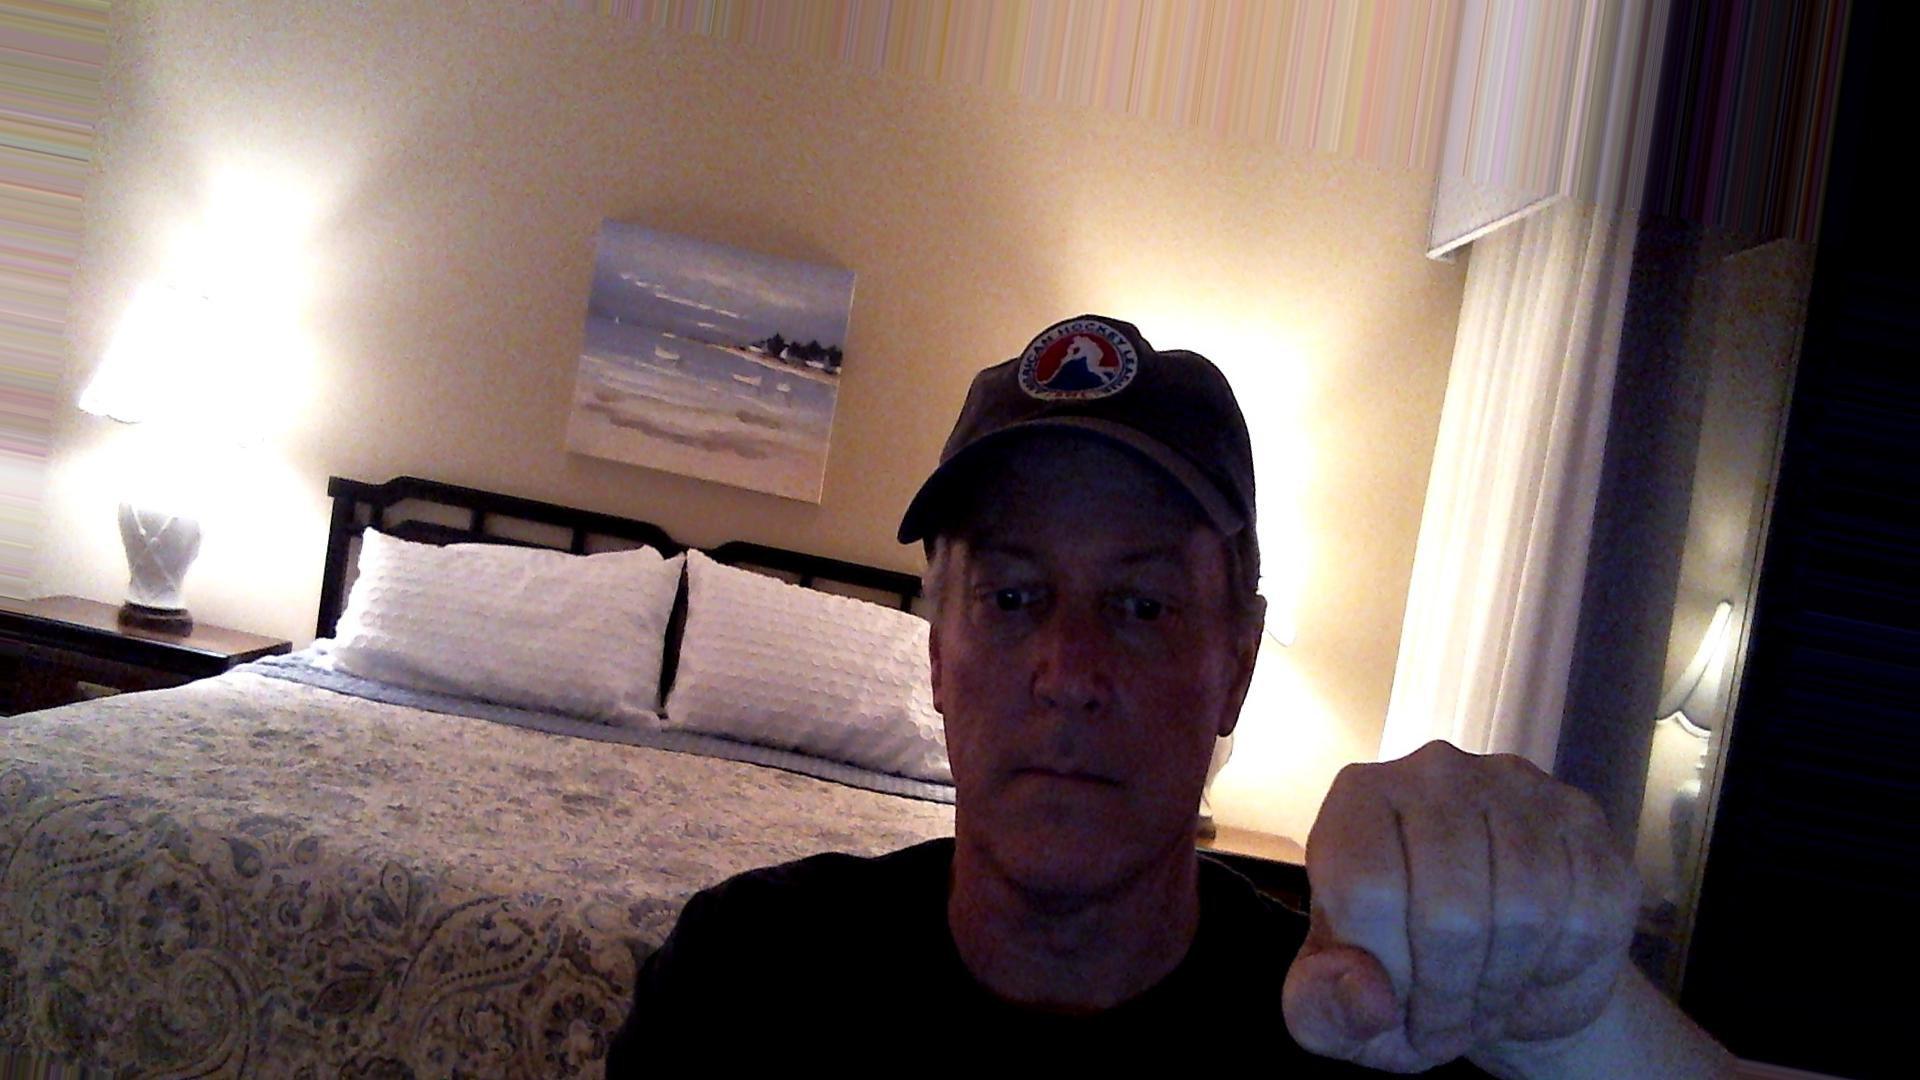Yes: (1265, 720, 1675, 1062)
